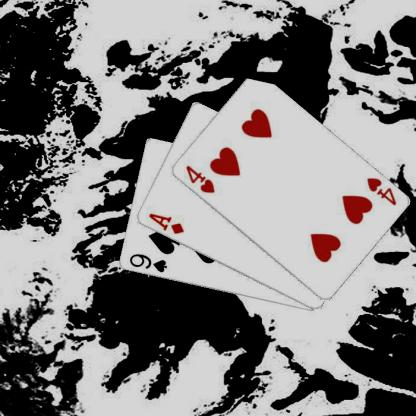4H: (182, 163, 216, 195), (364, 175, 398, 207)
9S: (127, 251, 168, 274)
AD: (146, 210, 184, 236)
